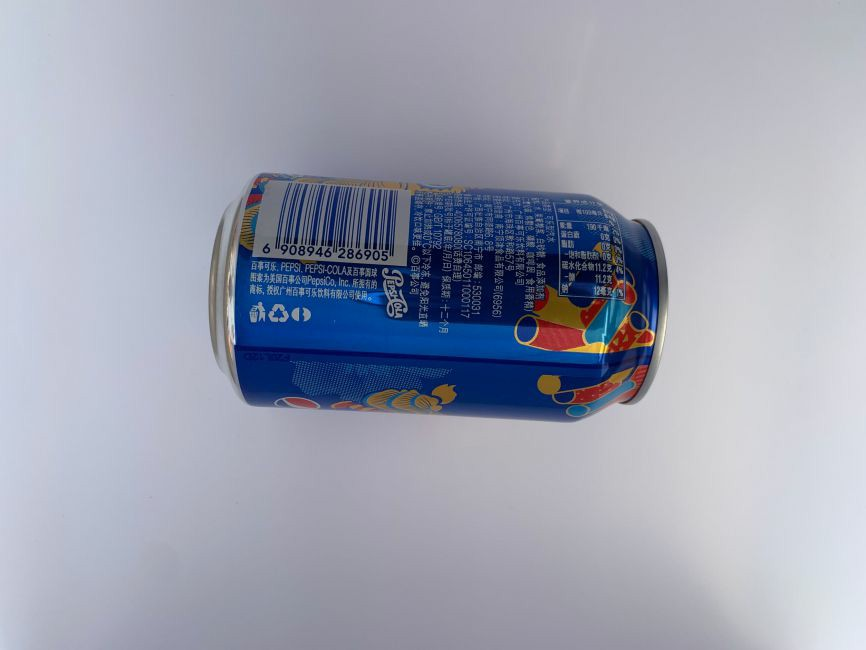can: (201, 166, 677, 433)
